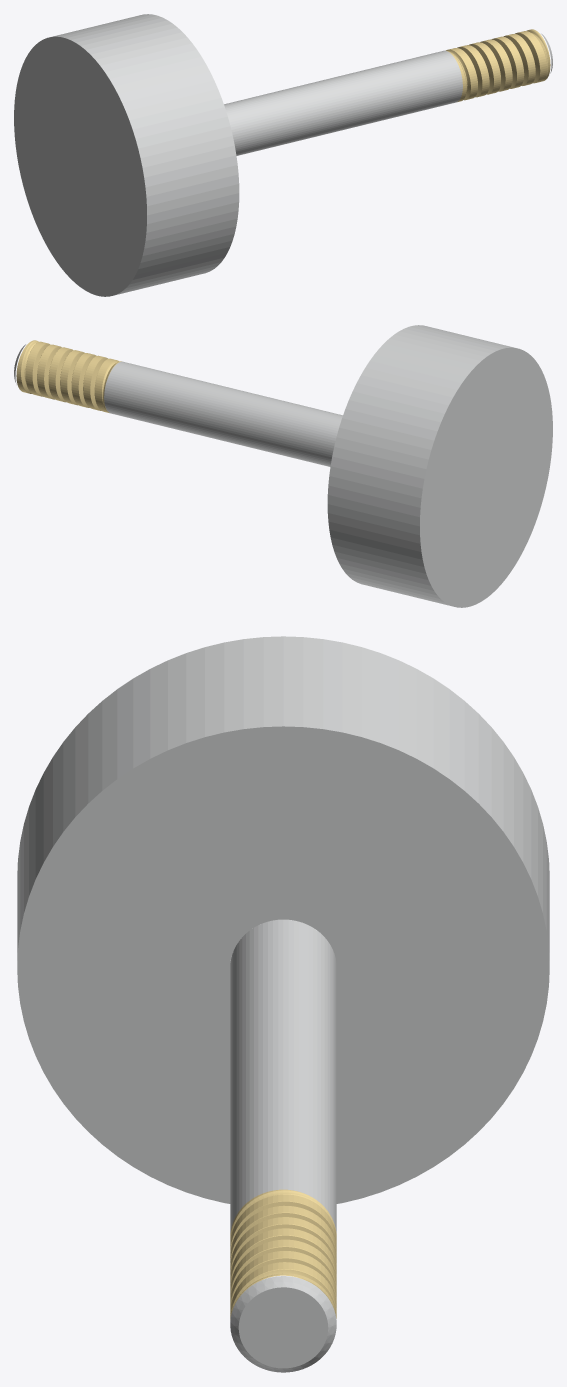
File: sac-pwc-001.glb
The picture shows the model from 3 angles, top to bottom: view 1: azimuth 30°, elevation 25°; view 2: azimuth 150°, elevation 25°; view 3: azimuth 270°, elevation 25°; orthographic projection. The views are drawn at different scales.
Visible parts, largest first — view 1: steel_0, steel_1, accent-thread_2; view 2: steel_0, steel_1, accent-thread_2; view 3: steel_0, steel_1, accent-thread_2.
Boxes of the visible parts, bbox=[...] form: steel_0: bbox=[14, 14, 552, 296]; steel_1: bbox=[224, 50, 462, 155]; accent-thread_2: bbox=[446, 29, 550, 102]; steel_0: bbox=[14, 325, 552, 607]; steel_1: bbox=[104, 361, 342, 466]; accent-thread_2: bbox=[16, 340, 121, 413]; steel_0: bbox=[17, 636, 549, 1372]; steel_1: bbox=[230, 919, 336, 1232]; accent-thread_2: bbox=[230, 1189, 336, 1319].
Size of the model in its own units: 10 by 5 by 5.
